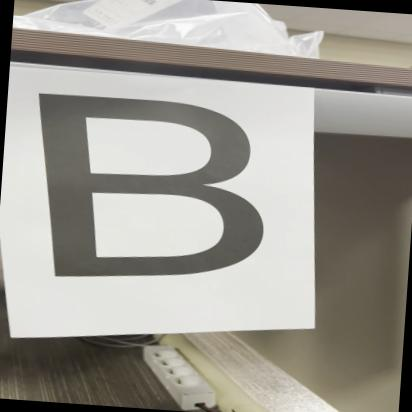seat: (13, 79, 277, 294)
